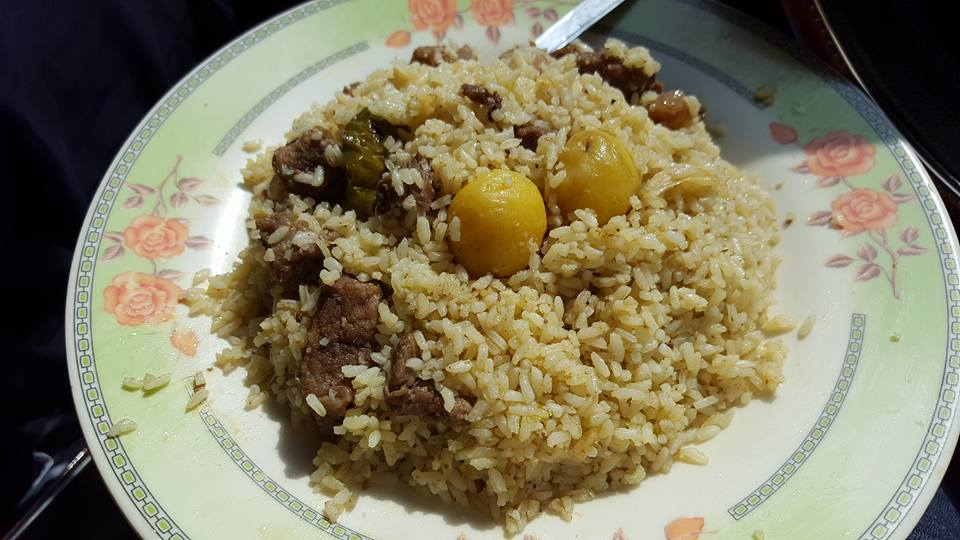tehari: (213, 34, 797, 524)
